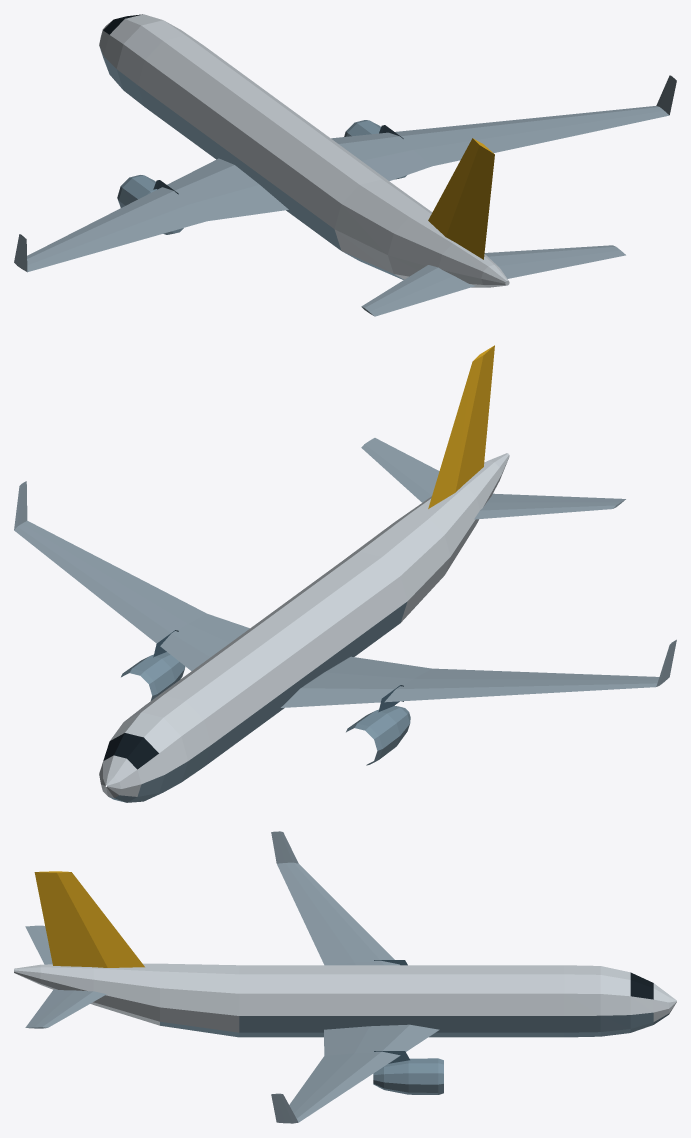
3 renders of one model, top to bottom at view 1: azimuth 30°, elevation 25°; view 2: azimuth 150°, elevation 25°; view 3: azimuth 270°, elevation 25°, orthographic. The views are drawn at different scales.
Parts seen in each view (by area): view 1: lod0; view 2: lod0; view 3: lod0.
Boxes of the visible parts, x1=… form: lod0: x1=14, y1=14, x2=676, y2=316; lod0: x1=14, y1=345, x2=676, y2=802; lod0: x1=14, y1=831, x2=676, y2=1123.
Size of what is drawn, in the model's own units: 0.9357 by 0.2918 by 1.
